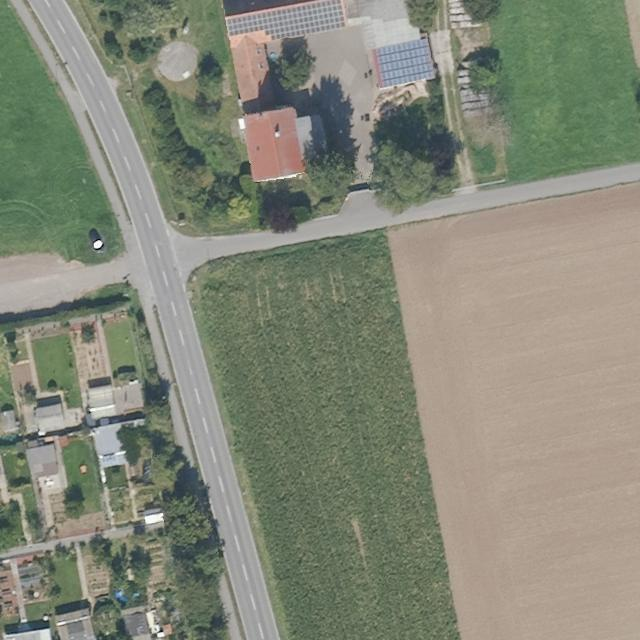PV: (224, 1, 346, 43), (374, 37, 437, 89)
